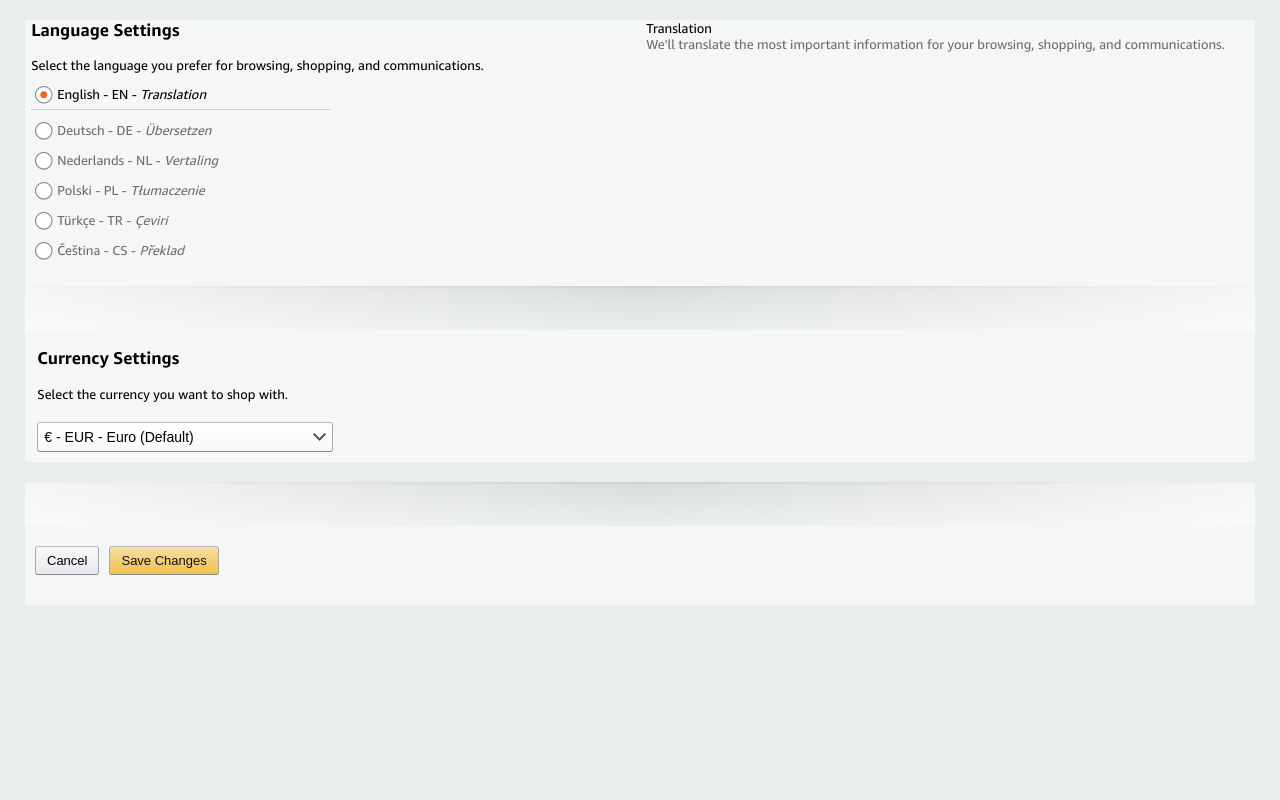
Test: CurrencyScreen › saving updates the currency rates and shows the success message
The image size is (1280, 800).
Click the button "Save Changes" at [164, 560], box [110,546,219,575]
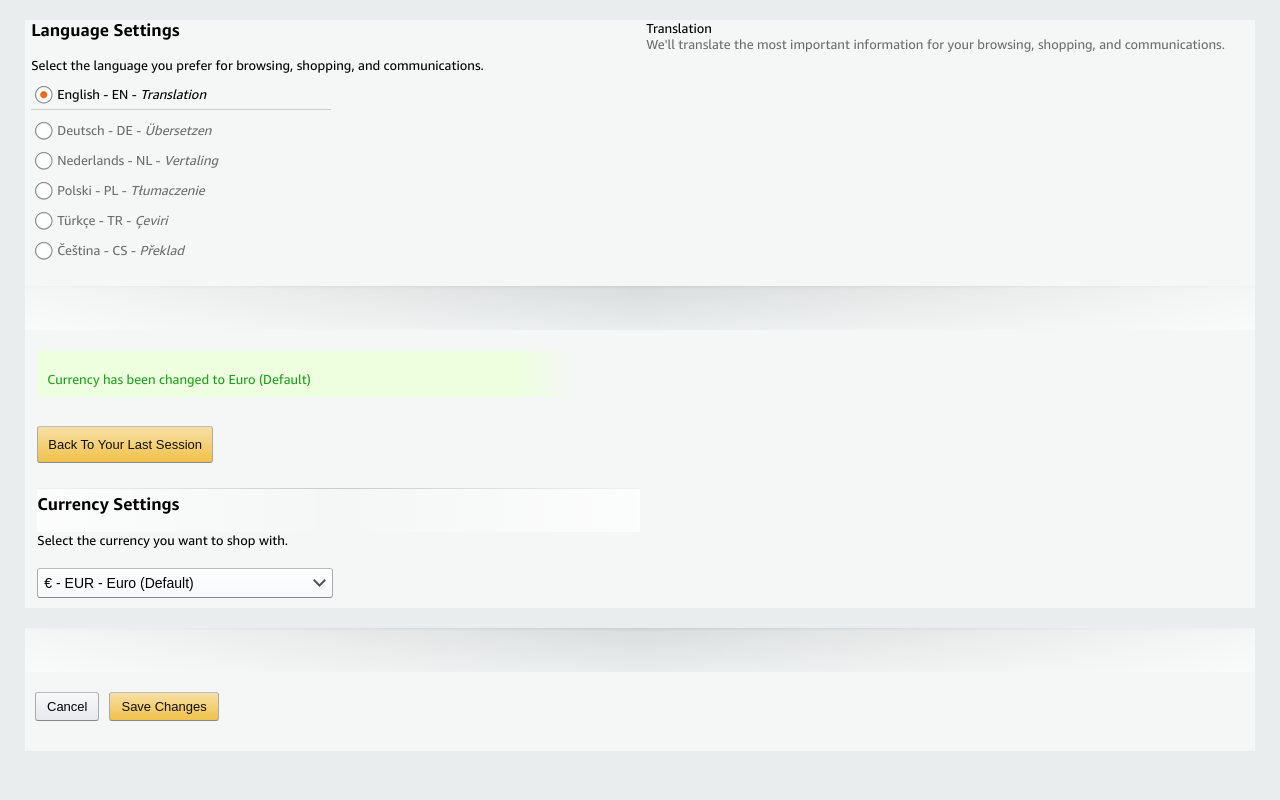
Expected: the list item "Currency has been changed to Euro (Default)" is shown, [47,371,311,387]
